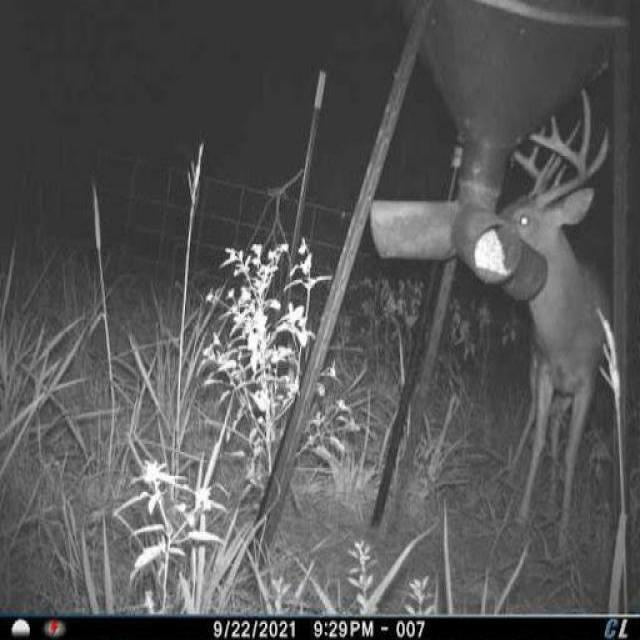deer: (494, 79, 618, 534)
